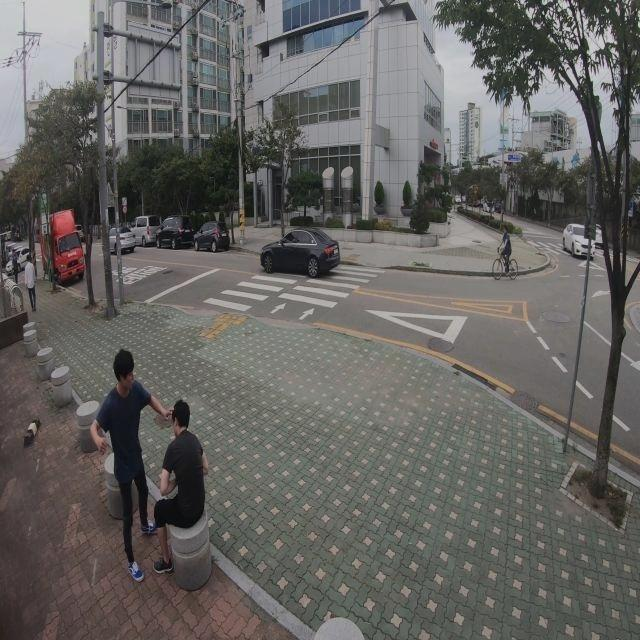fight: (93, 349, 213, 584)
